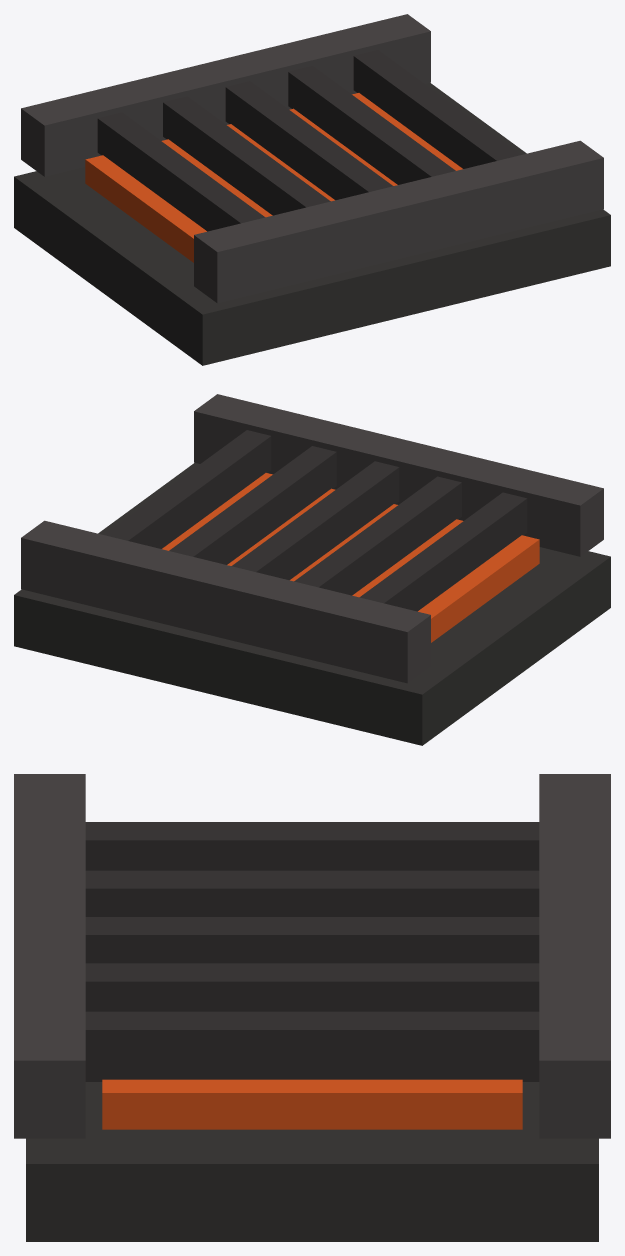
The model's file is vent.glb.
The picture shows the model from 3 angles, top to bottom: view 1: azimuth 30°, elevation 25°; view 2: azimuth 150°, elevation 25°; view 3: azimuth 270°, elevation 25°; orthographic projection. The views are drawn at different scales.
Parts seen in each view (by area): view 1: vent; view 2: vent; view 3: vent.
Part boxes in pixels (bbox=[...]): vent: bbox=[14, 14, 610, 365]; vent: bbox=[14, 394, 610, 745]; vent: bbox=[14, 774, 610, 1241].
Size of the model in its own units: 1.5 by 0.4 by 1.25.
